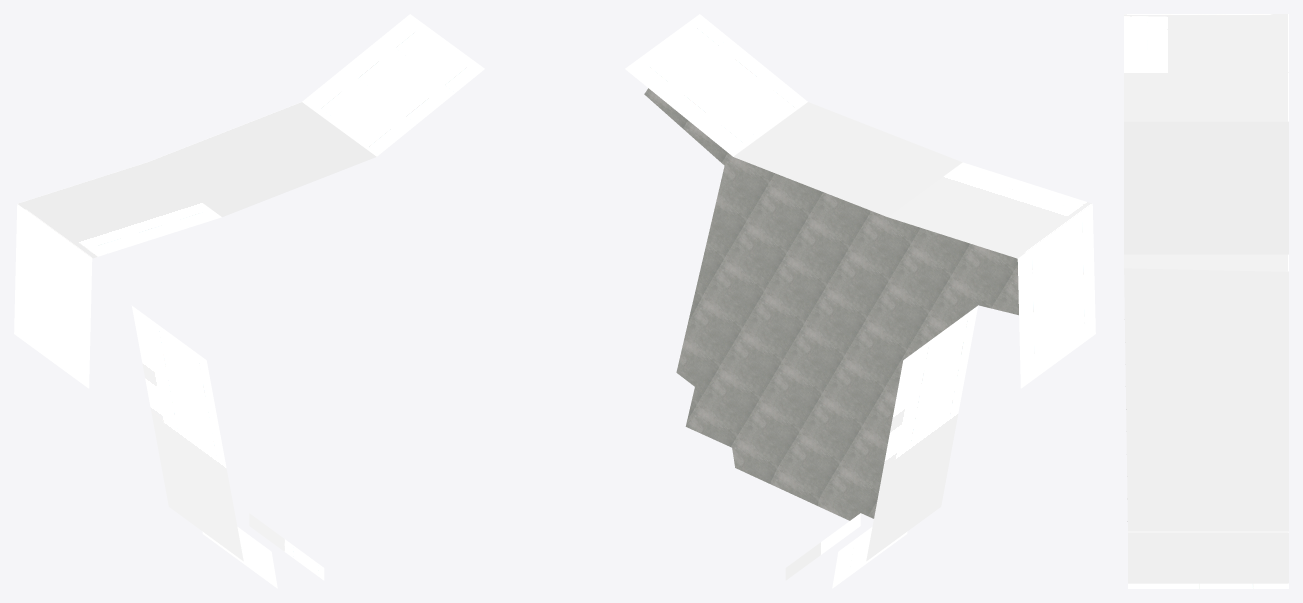
3 renders of one model, left to right at view 1: azimuth 30°, elevation 25°; view 2: azimuth 150°, elevation 25°; view 3: azimuth 270°, elevation 25°, orthographic. The views are drawn at different scales.
Visible parts, largest first — view 1: BuildingMaster_2003194619634462864800000000_0; view 2: BuildingMaster_2003194619634462864800000000_1, BuildingMaster_2003194619634462864800000000_0; view 3: BuildingMaster_2003194619634462864800000000_0.
Boxes of the visible parts, x1,y1,x2,y2 form: BuildingMaster_2003194619634462864800000000_0: [14, 14, 484, 588]; BuildingMaster_2003194619634462864800000000_1: [644, 88, 1018, 520]; BuildingMaster_2003194619634462864800000000_0: [625, 14, 1095, 588]; BuildingMaster_2003194619634462864800000000_0: [1124, 14, 1288, 588].
Bounding box in the file's own units: 36.5 × 36.5 × 10.5.
